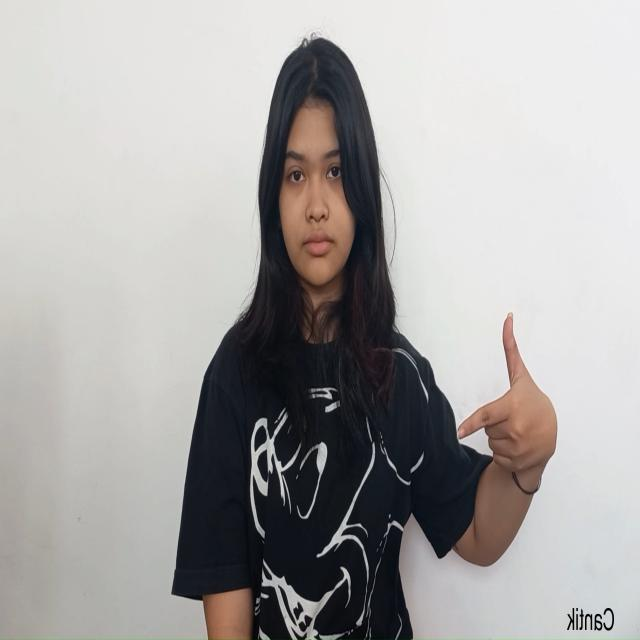Cantik -BISINDO-: (456, 310, 557, 490)
